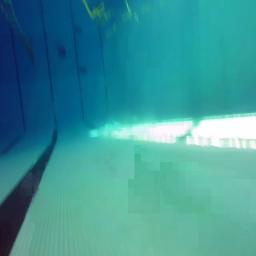Full: (58, 47, 67, 60), (79, 68, 87, 74)
